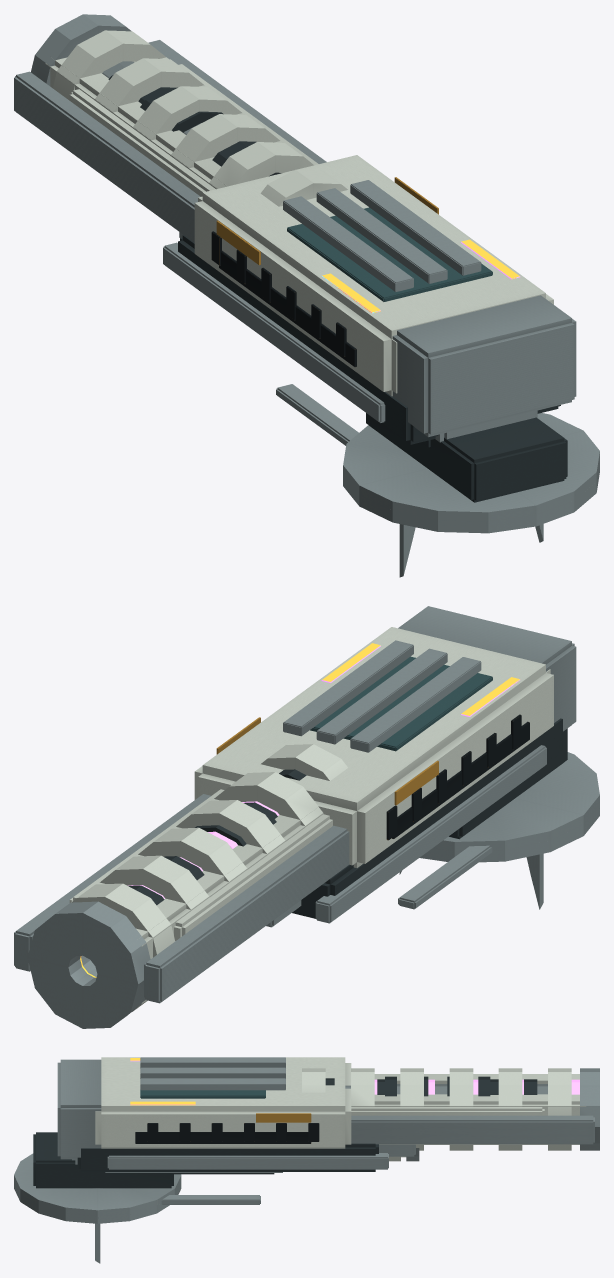
Rendered from ship-weapons.glb.
3 renders of one model, top to bottom at view 1: azimuth 30°, elevation 25°; view 2: azimuth 150°, elevation 25°; view 3: azimuth 270°, elevation 25°, orthographic. The views are drawn at different scales.
Parts seen in each view (by area): view 1: laser-s3_surface Geometry, void-s3_surface Geometry, pulse-s3_surface Geometry, Adapter_Atlas_Front_surface Geometry, Adapter_Kestrel_Nose_surface Geometry, Adapter_Atlas_Aft_surface Geometry, laser-s3_emitter Geometry, laser-s2_surface Geometry; view 2: laser-s3_surface Geometry, void-s3_surface Geometry, pulse-s3_surface Geometry, Adapter_Kestrel_Nose_surface Geometry, Adapter_Atlas_Front_surface Geometry, laser-s3_emitter Geometry, Adapter_Atlas_Aft_surface Geometry, void-s3_emitter Geometry; view 3: laser-s3_surface Geometry, void-s3_surface Geometry, pulse-s3_surface Geometry, Adapter_Kestrel_Nose_surface Geometry, Adapter_Atlas_Front_surface Geometry, void-s2_surface Geometry, void-s3_emitter Geometry, Adapter_Atlas_Aft_surface Geometry, laser-s2_surface Geometry, laser-s3_emitter Geometry.
Part boxes in pixels (bbox=[...]): laser-s3_surface Geometry: bbox=[45, 57, 599, 521]; void-s3_surface Geometry: bbox=[14, 14, 347, 242]; pulse-s3_surface Geometry: bbox=[69, 61, 318, 196]; Adapter_Atlas_Front_surface Geometry: bbox=[343, 465, 599, 533]; Adapter_Kestrel_Nose_surface Geometry: bbox=[276, 384, 543, 577]; Adapter_Atlas_Aft_surface Geometry: bbox=[343, 461, 599, 526]; laser-s3_emitter Geometry: bbox=[322, 239, 519, 312]; laser-s2_surface Geometry: bbox=[421, 410, 537, 447]; laser-s3_surface Geometry: bbox=[50, 606, 599, 1005]; void-s3_surface Geometry: bbox=[14, 744, 349, 1028]; pulse-s3_surface Geometry: bbox=[42, 769, 332, 1013]; Adapter_Kestrel_Nose_surface Geometry: bbox=[398, 845, 543, 909]; Adapter_Atlas_Front_surface Geometry: bbox=[419, 805, 599, 862]; laser-s3_emitter Geometry: bbox=[80, 643, 519, 977]; Adapter_Atlas_Aft_surface Geometry: bbox=[427, 805, 599, 855]; void-s3_emitter Geometry: bbox=[128, 645, 519, 898]; laser-s3_surface Geometry: bbox=[14, 1057, 586, 1216]; void-s3_surface Geometry: bbox=[302, 1068, 599, 1150]; pulse-s3_surface Geometry: bbox=[325, 1076, 547, 1144]; Adapter_Kestrel_Nose_surface Geometry: bbox=[95, 1195, 260, 1263]; Adapter_Atlas_Front_surface Geometry: bbox=[14, 1182, 181, 1223]; void-s2_surface Geometry: bbox=[379, 1144, 419, 1161]; void-s3_emitter Geometry: bbox=[130, 1060, 579, 1104]; Adapter_Atlas_Aft_surface Geometry: bbox=[14, 1181, 162, 1219]; laser-s2_surface Geometry: bbox=[72, 1156, 405, 1174]; laser-s3_emitter Geometry: bbox=[130, 1058, 195, 1105].
Size of the model in its own units: 1.25 by 1.41 by 4.38.
Materials: 4 (1 with a texture image).
